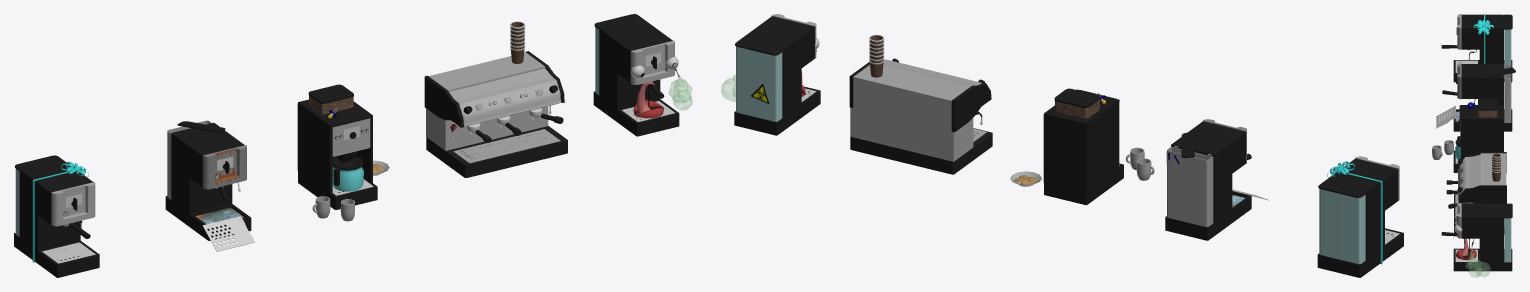
The picture shows the model from 3 angles, left to right: view 1: azimuth 30°, elevation 25°; view 2: azimuth 150°, elevation 25°; view 3: azimuth 270°, elevation 25°; orthographic projection. The views are drawn at different scales.
Visible parts, largest first — view 1: body (×2), pCube37, pCube4 (×3), pCube39, pCube36, pCube2, pPlane7, pCube22, pCube41, pCube11, pCube25, pCube26 (+14 smaller); view 2: body (×2), pCube37, water_boil (×2), pCube22, polySurface3, pCube36, pCube2, pCube1, pCube41, pCube16, pCube26, pCube25 (+4 smaller); view 3: body (×2), pCube40, pCube22, pCube24, pCube39, pCube37, water_boil (×2), pCube2, pCube4 (×3), polySurface2 (×3), pPlatonic14, pCube10 (+26 smaller).
Boxes of the visible parts, <box> form: body (×2): <box>14,18,679,277</box>; pCube37: <box>426,52,548,150</box>; pCube4 (×3): <box>51,40,674,226</box>; pCube39: <box>449,68,561,126</box>; pCube36: <box>426,126,567,177</box>; pCube2: <box>171,135,232,214</box>; pPlane7: <box>453,129,560,163</box>; pCube22: <box>297,103,356,182</box>; pCube41: <box>424,75,463,127</box>; pCube11: <box>202,216,254,251</box>; pCube25: <box>316,117,332,193</box>; pCube26: <box>308,84,353,114</box>; body (×2): <box>734,16,1403,277</box>; pCube37: <box>850,65,973,161</box>; water_boil (×2): <box>736,46,1365,264</box>; pCube22: <box>1043,112,1104,192</box>; polySurface3: <box>1167,147,1213,226</box>; pCube36: <box>850,128,992,174</box>; pCube2: <box>1171,143,1232,223</box>; pCube1: <box>1165,191,1251,240</box>; pCube41: <box>951,82,991,132</box>; pCube16: <box>1044,163,1123,205</box>; pCube26: <box>1054,88,1100,118</box>; pCube25: <box>1105,102,1119,178</box>; body (×2): <box>1453,14,1512,271</box>; pCube40: <box>1458,185,1506,203</box>; pCube22: <box>1480,106,1503,151</box>; pCube24: <box>1460,120,1480,159</box>; pCube39: <box>1458,154,1480,200</box>; pCube37: <box>1480,153,1506,225</box>; water_boil (×2): <box>1504,29,1511,262</box>; pCube2: <box>1479,78,1503,105</box>; pCube4 (×3): <box>1457,14,1461,238</box>; polySurface2 (×3): <box>1484,14,1515,218</box>; pPlatonic14: <box>1465,251,1490,277</box>; pCube10: <box>1461,78,1479,98</box>.
Bounding box in the file's own units: 35.36 × 5.71 × 5.86.
